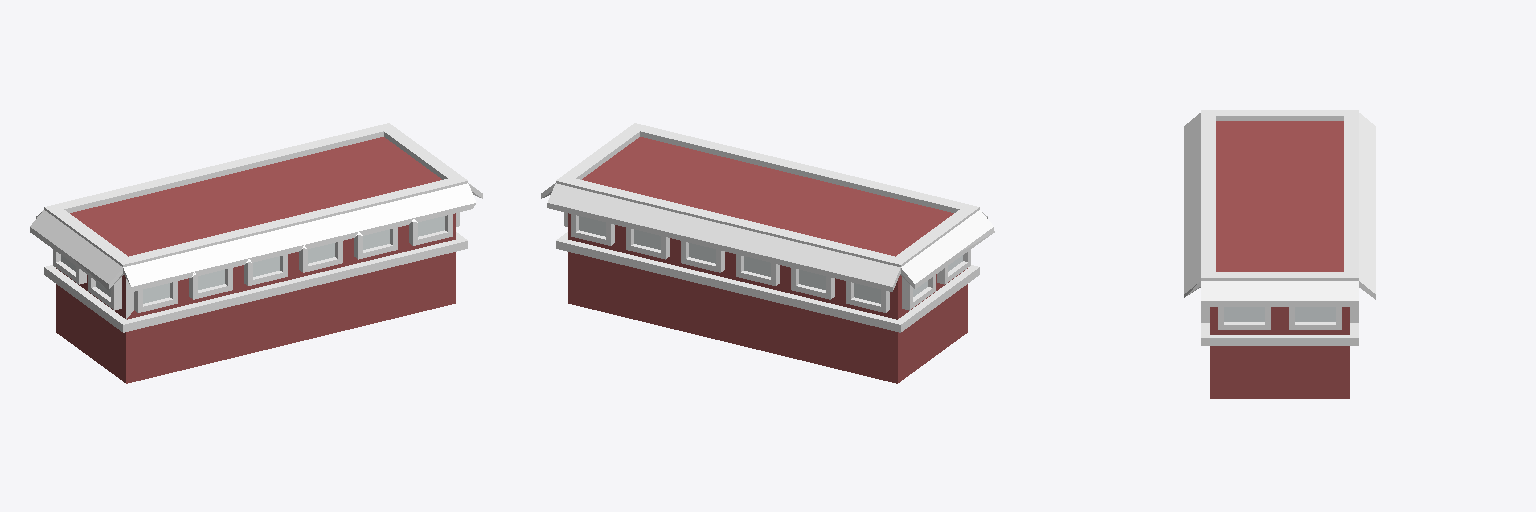
File: 红紫小房子.obj
3 views of the same model, side by side, from view 1: azimuth 30°, elevation 25°; view 2: azimuth 150°, elevation 25°; view 3: azimuth 270°, elevation 25° (orthographic).
Visible parts, largest first — view 1: 立方体; view 2: 立方体; view 3: 立方体.
Part boxes in pixels (x1,y1,x2,y2): 立方体: (30, 123, 482, 383); 立方体: (541, 123, 994, 383); 立方体: (1184, 110, 1375, 398).
Bounding box in the file's own units: 1824 × 578 × 807.